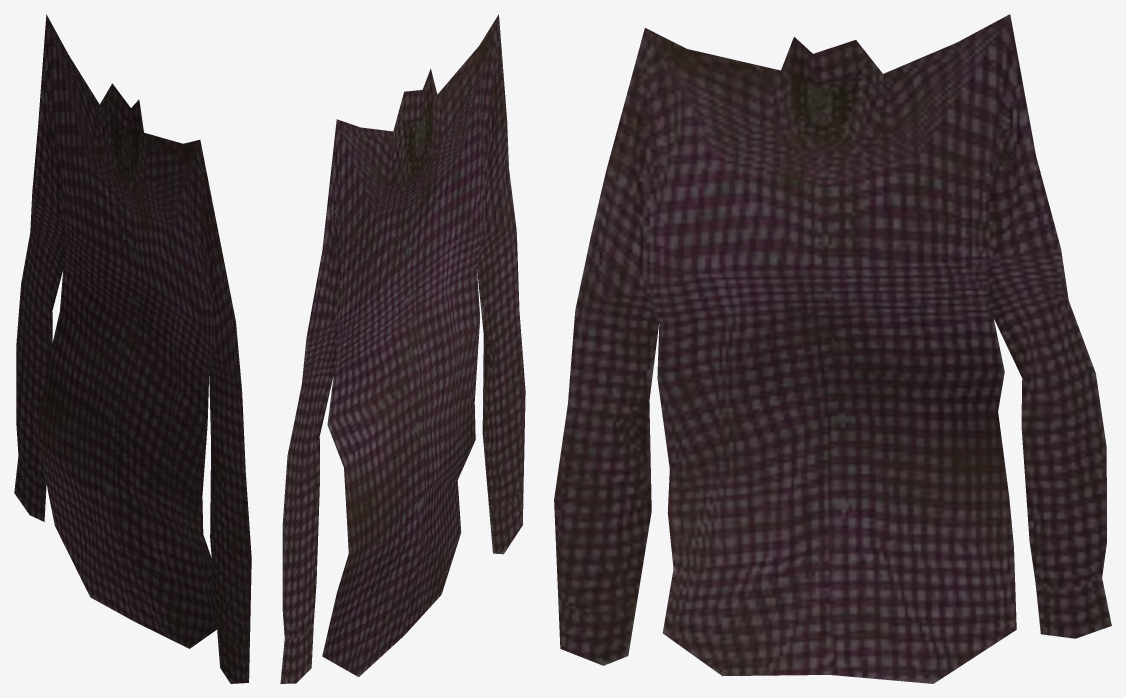
Rendered from Shirt_01.FBX.
The picture shows the model from 3 angles, left to right: view 1: azimuth 30°, elevation 25°; view 2: azimuth 150°, elevation 25°; view 3: azimuth 270°, elevation 25°; orthographic projection. The views are drawn at different scales.
Parts seen in each view (by area): view 1: Shirt_01; view 2: Shirt_01; view 3: Shirt_01.
Part boxes in pixels (x1,y1,x2,y2): Shirt_01: (14,14,251,683); Shirt_01: (280,14,525,683); Shirt_01: (554,14,1111,683).
Bounding box in the file's own units: 4.87 × 67.35 × 51.32.
